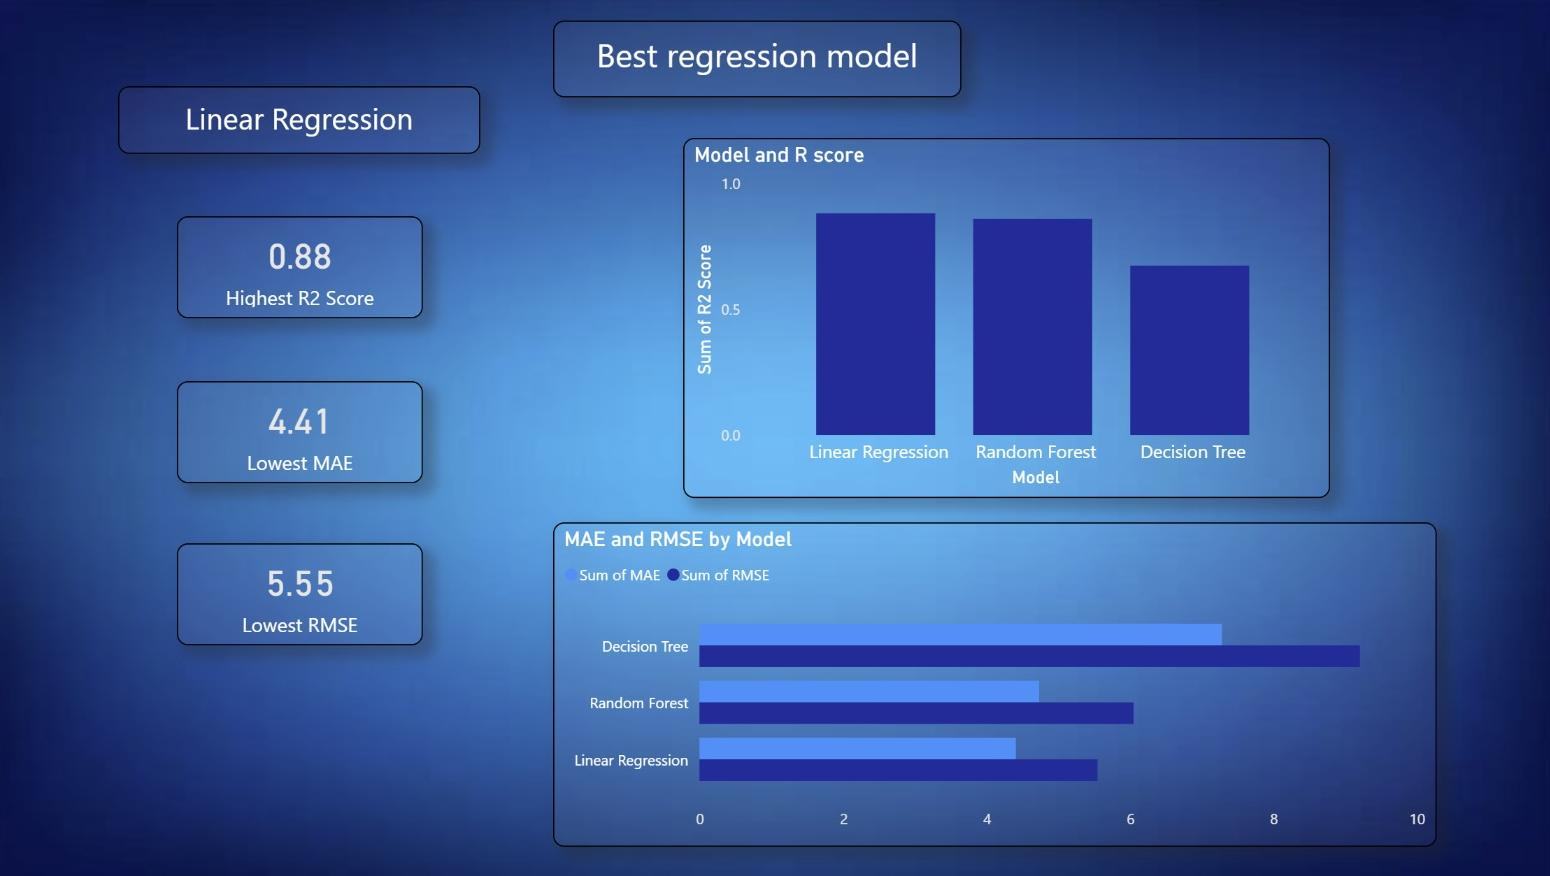

Layout of this report page (visuals, bound fields, positions):
{"tool":"powerbi","page":{"name":"Page 2","canvas":[1280,720],"ordinal":1},"visuals":[{"type":"clusteredColumnChart","title":"Model and R score","fields":{"Category":["model_results.Model"],"Y":["Sum(model_results.R2 Score)"]},"box":[568.6,116,525.3,293.2],"z":0},{"type":"clusteredBarChart","title":"MAE and RMSE by Model","fields":{"Category":["model_results.Model"],"Y":["Sum(model_results.MAE)","Sum(model_results.RMSE)"]},"box":[462.8,428.4,717.8,263.9],"z":1000},{"type":"card","fields":{"Values":["Max(model_results.R2 Score)"]},"box":[156.8,179.8,200.2,82.9],"z":2000},{"type":"card","fields":{"Values":["Min(model_results.MAE)"]},"box":[156.8,313.6,200.2,82.9],"z":3000},{"type":"card","fields":{"Values":["Min(model_results.RMSE)"]},"box":[156.8,446.2,200.2,82.9],"z":4000},{"type":"textbox","box":[109.6,73.9,294.5,54.8],"z":5000},{"type":"textbox","box":[462.8,20.4,331.5,62.5],"z":6000}]}

Visuals, with their boxes in screenshot pixels (x1, y1, x2, y2), scaled from the page's 1280x720 canvas onto the 1550x876 screenshot:
"Model and R score" clusteredColumnChart: box(689, 141, 1325, 498)
"MAE and RMSE by Model" clusteredBarChart: box(560, 521, 1430, 842)
card - Max(model_results.R2 Score): box(190, 219, 432, 320)
card - Min(model_results.MAE): box(190, 382, 432, 482)
card - Min(model_results.RMSE): box(190, 543, 432, 644)
textbox: box(133, 90, 489, 157)
textbox: box(560, 25, 962, 101)
